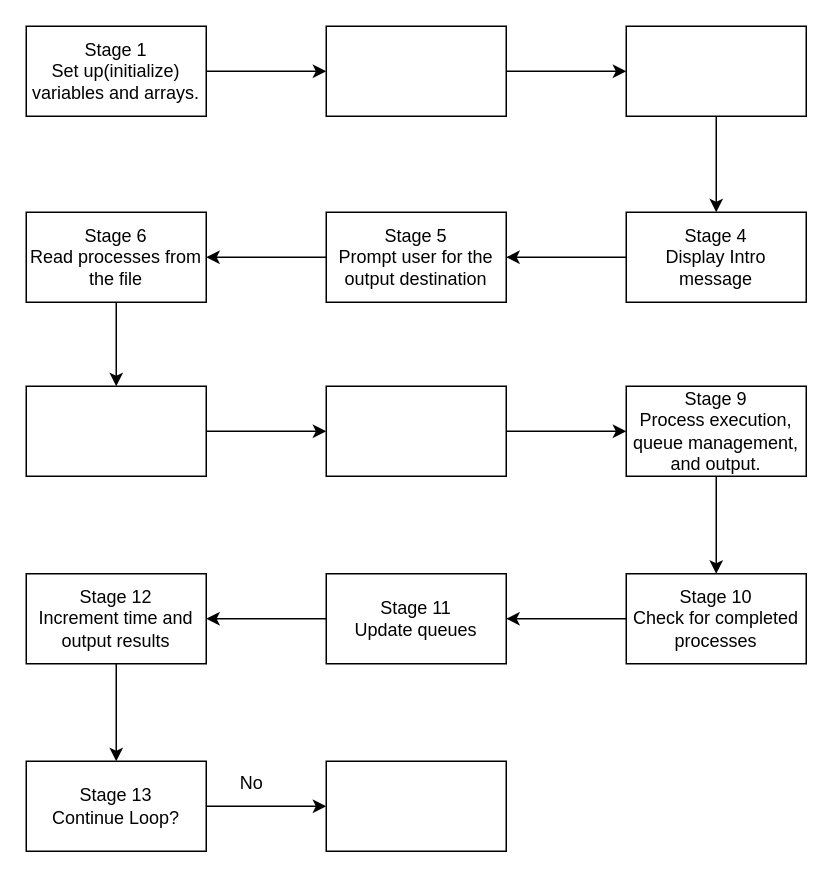
The diagram is 833 pixels wide and 878 high, and some of its shapes have lost their labels. The centre of each missing label's shape, as x and y in pixels:
Stage 14 Print the final footer and exit.: (x=415, y=805)
Stage 2 Process script arguments.: (x=415, y=70)
Stage 3 Check for parameter errors.: (x=715, y=70)
Stage 7 Print Header: (x=115, y=430)
Stage 8 Main loop. Loop until all processes have been completed.: (x=415, y=430)
